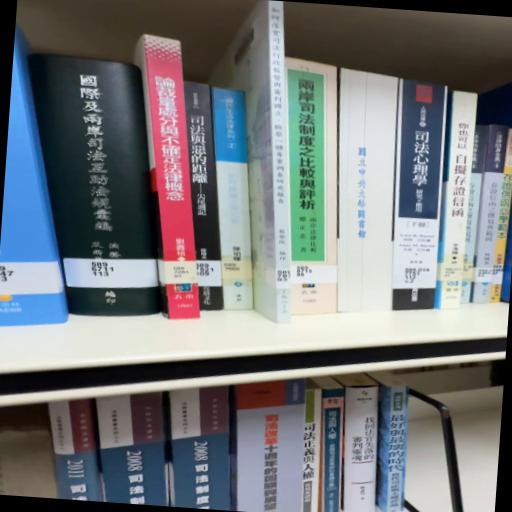backward: (338, 68, 398, 312)
book: (11, 57, 176, 322), (29, 54, 160, 316), (113, 36, 216, 328), (210, 0, 291, 323), (0, 26, 68, 326), (135, 34, 200, 319), (193, 82, 269, 318), (388, 78, 454, 312), (282, 58, 337, 314), (392, 79, 447, 310), (435, 91, 477, 309), (212, 88, 253, 310), (185, 82, 224, 311), (471, 125, 508, 303), (337, 384, 385, 512), (370, 384, 414, 512), (313, 385, 351, 512), (461, 126, 487, 303)
